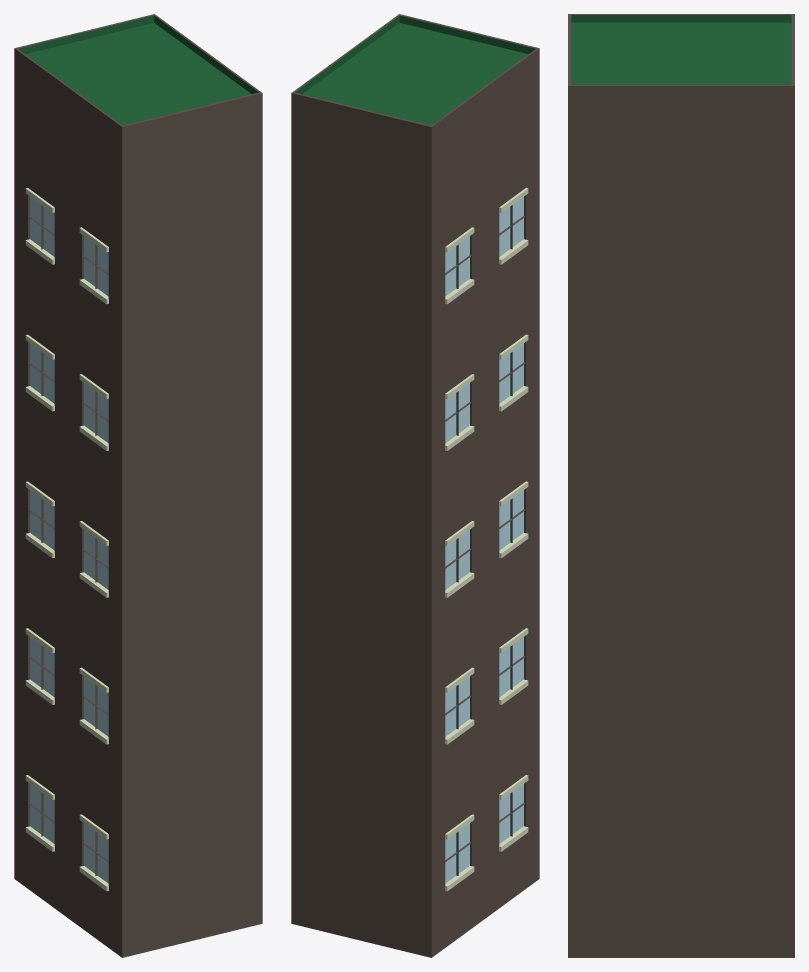
File: 5building_9_R.glb
3 renders of one model, left to right at view 1: azimuth 30°, elevation 25°; view 2: azimuth 150°, elevation 25°; view 3: azimuth 270°, elevation 25°, orthographic. The views are drawn at different scales.
Parts seen in each view (by area): view 1: 5ho_R; view 2: 5ho_R; view 3: 5ho_R.
Boxes of the visible parts, x1=… form: 5ho_R: x1=14, y1=14, x2=262, y2=957; 5ho_R: x1=291, y1=14, x2=539, y2=957; 5ho_R: x1=568, y1=14, x2=794, y2=957.
Bounding box in the file's own units: 30.5 × 170 × 40.
